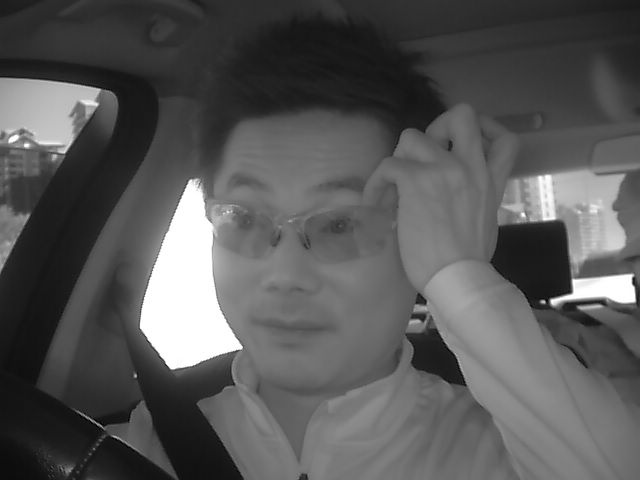hand: (370, 104, 517, 294)
